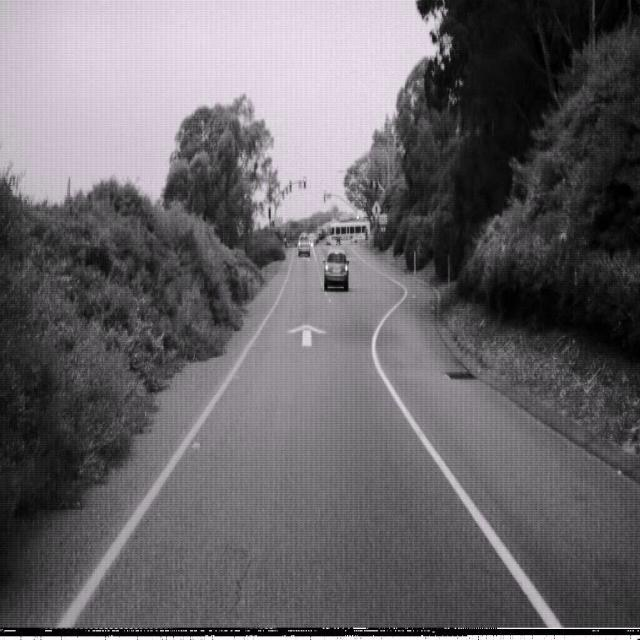pedestrianCrossing: (371, 198, 381, 220)
